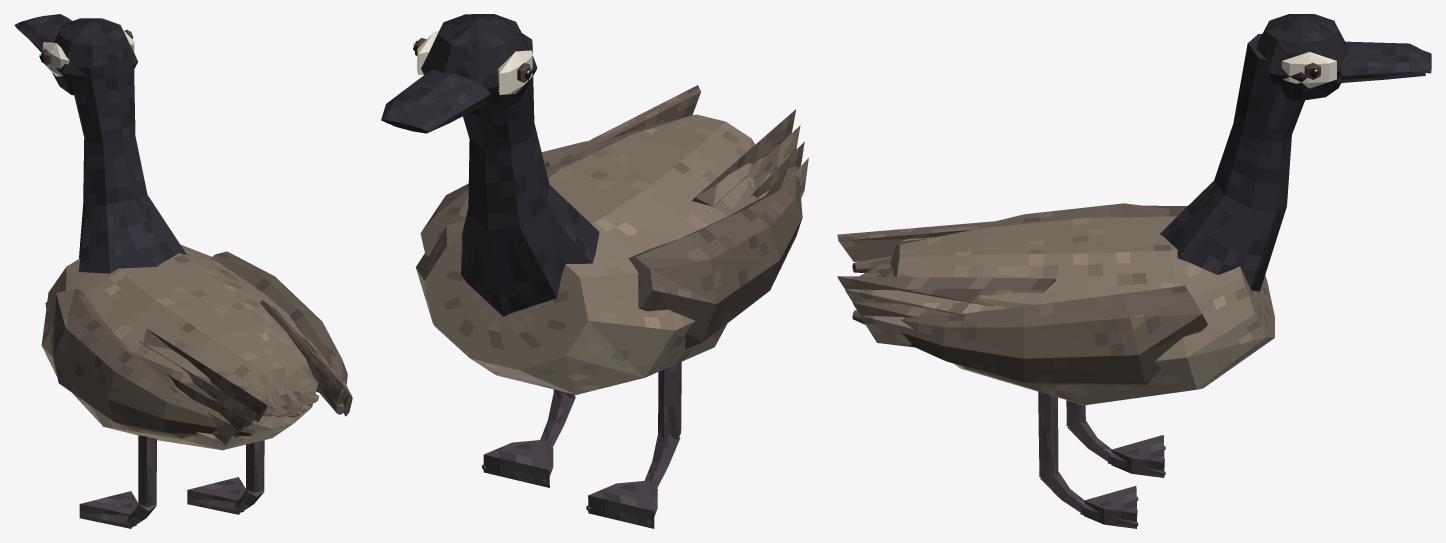
The model's file is mon_goose_canadian.glb.
The picture shows the model from 3 angles, left to right: view 1: azimuth 30°, elevation 25°; view 2: azimuth 150°, elevation 25°; view 3: azimuth 270°, elevation 25°; orthographic projection. The views are drawn at different scales.
Parts seen in each view (by area): view 1: closed_body; view 2: closed_body; view 3: closed_body.
Boxes of the visible parts, x1,y1,x2,y2 form: closed_body: (14, 14, 352, 528); closed_body: (381, 14, 808, 528); closed_body: (837, 14, 1431, 528).
Size of the model in its own units: 0.292 by 0.5326 by 0.6051.
Materials: 1 (1 with a texture image).
